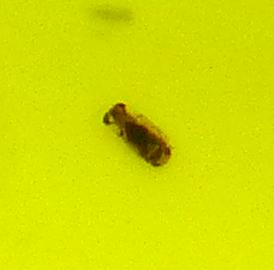Hemiptera: (100, 100, 174, 170)
